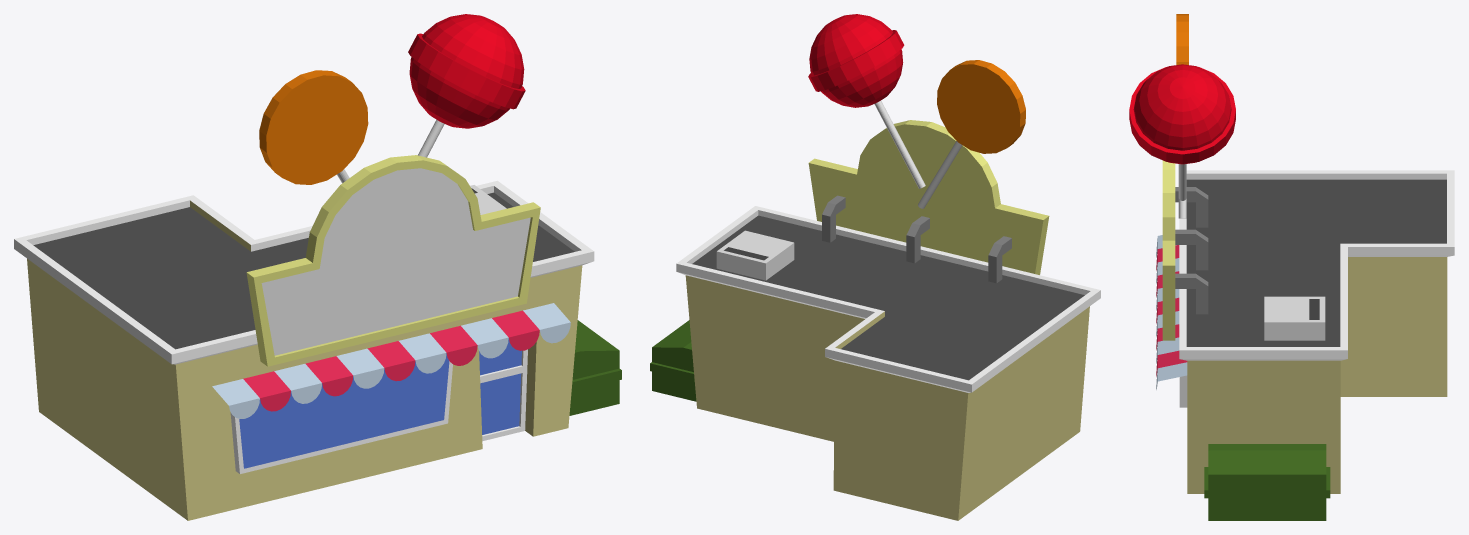
The model's file is shop-candy-b.glb.
The picture shows the model from 3 angles, left to right: view 1: azimuth 30°, elevation 25°; view 2: azimuth 150°, elevation 25°; view 3: azimuth 270°, elevation 25°; orthographic projection. The views are drawn at different scales.
Visible parts, largest first — view 1: Cube, Cube.001, Circle, Cylinder.003, Cylinder.002, Cube.003; view 2: Cube, Cube.001, Cylinder.003, Cylinder.002, Cube.002, Cube.003; view 3: Cube, Cube.003, Cylinder.003, Cube.001, Cube.002, Circle, Cylinder.002.
Part boxes in pixels (x1,y1,x2,y2): Cube: (14,180,594,520); Cube.001: (246,155,540,366); Circle: (212,303,570,418); Cylinder.003: (408,14,525,157); Cylinder.002: (259,70,368,184); Cube.003: (569,320,621,415); Cube: (676,206,1100,520); Cube.001: (808,120,1049,283); Cylinder.003: (808,14,925,188); Cylinder.002: (918,60,1025,208); Cube.002: (716,230,794,280); Cube.003: (650,320,696,401); Cube: (1179,170,1454,493); Cube.003: (1204,444,1330,520); Cylinder.003: (1129,64,1235,200); Cube.001: (1162,160,1208,340); Cube.002: (1264,296,1325,340); Circle: (1156,235,1187,389); Cylinder.002: (1176,14,1188,218).
Bounding box in the file's own units: 6.1 × 5.47 × 4.24.
